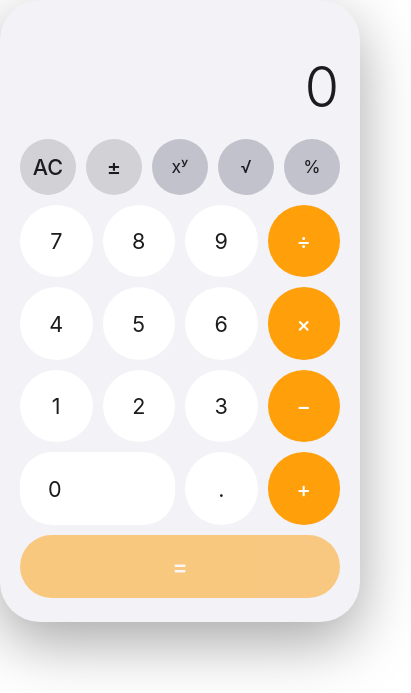
Test: Calculator › shows a running expression line once an operator is confirmed
The width and height of the screenshot is (411, 693).
Click the button "4".
click(56, 324)  # box left=20, top=287, right=92, bottom=360
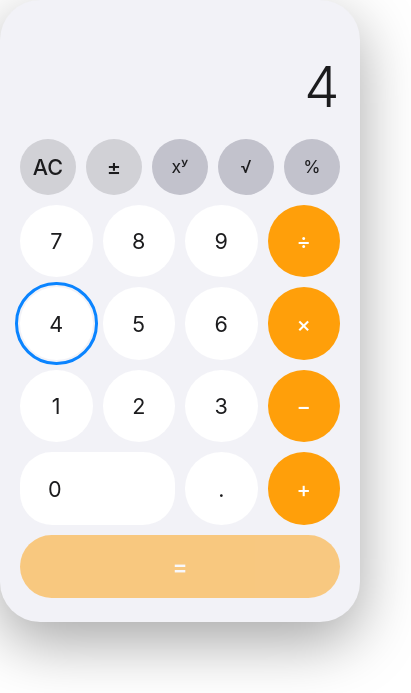
Click the button "+".
click(304, 489)  # box left=268, top=452, right=340, bottom=525
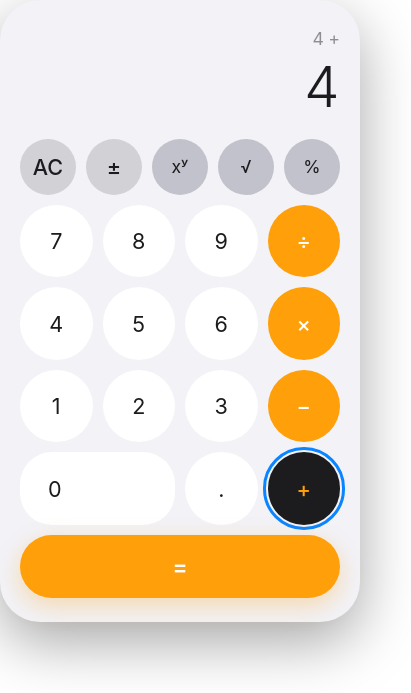
Check: the text with test id "display-expression" reads "4 +", box left=312, top=28, right=340, bottom=49
